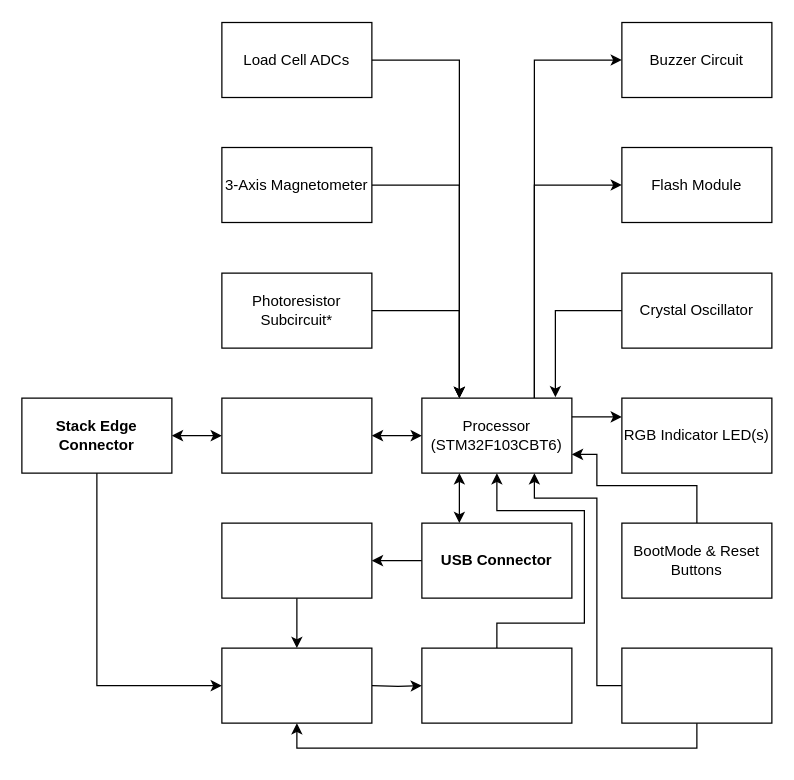
This 794x780 diagram has some shape labels left out. The centre of each missing label's shape, as x and y in pixels:
"3x Ideal Diodes (Power Mux)" belongs at pixel 296 685.
"CAN Interface (Isolated)" belongs at pixel 296 435.
"Current Monitoring IC" belongs at pixel 496 685.
"Linear Regulator" belongs at pixel 296 560.
"SWD Header (Programming)" belongs at pixel 696 685.
